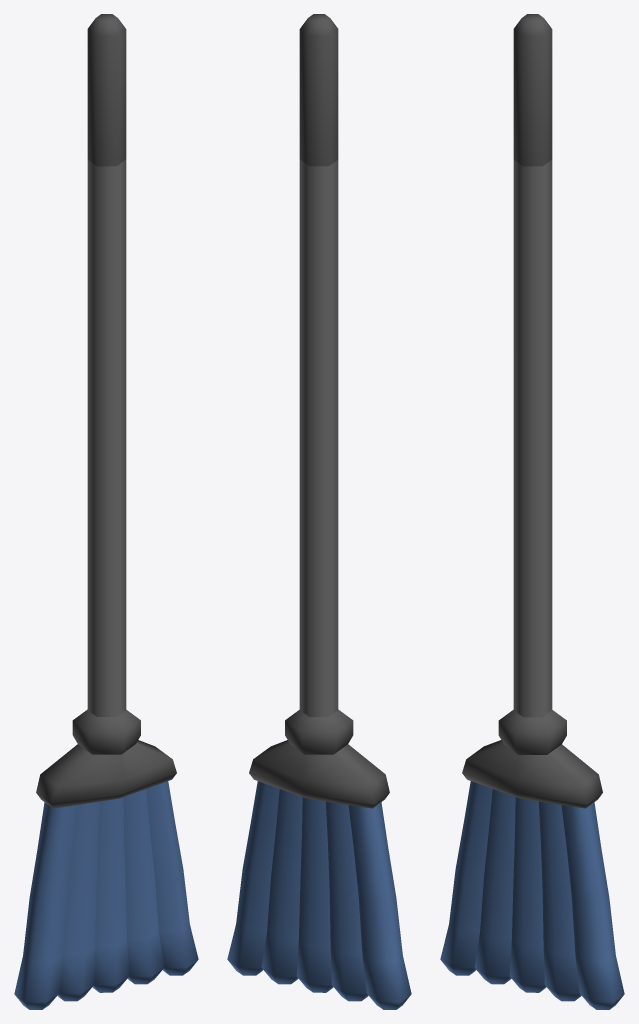
File: mop.fbx
3 renders of one model, left to right at view 1: azimuth 30°, elevation 25°; view 2: azimuth 150°, elevation 25°; view 3: azimuth 330°, elevation 25°, orthographic.
Parts seen in each view (by area): view 1: Mop; view 2: Mop; view 3: Mop.
Boxes of the visible parts, bbox=[...] form: Mop: bbox=[14, 14, 198, 1009]; Mop: bbox=[227, 14, 411, 1009]; Mop: bbox=[440, 14, 624, 1009].
Size of the model in its own units: 0.2668 by 1.42 by 0.0939.
